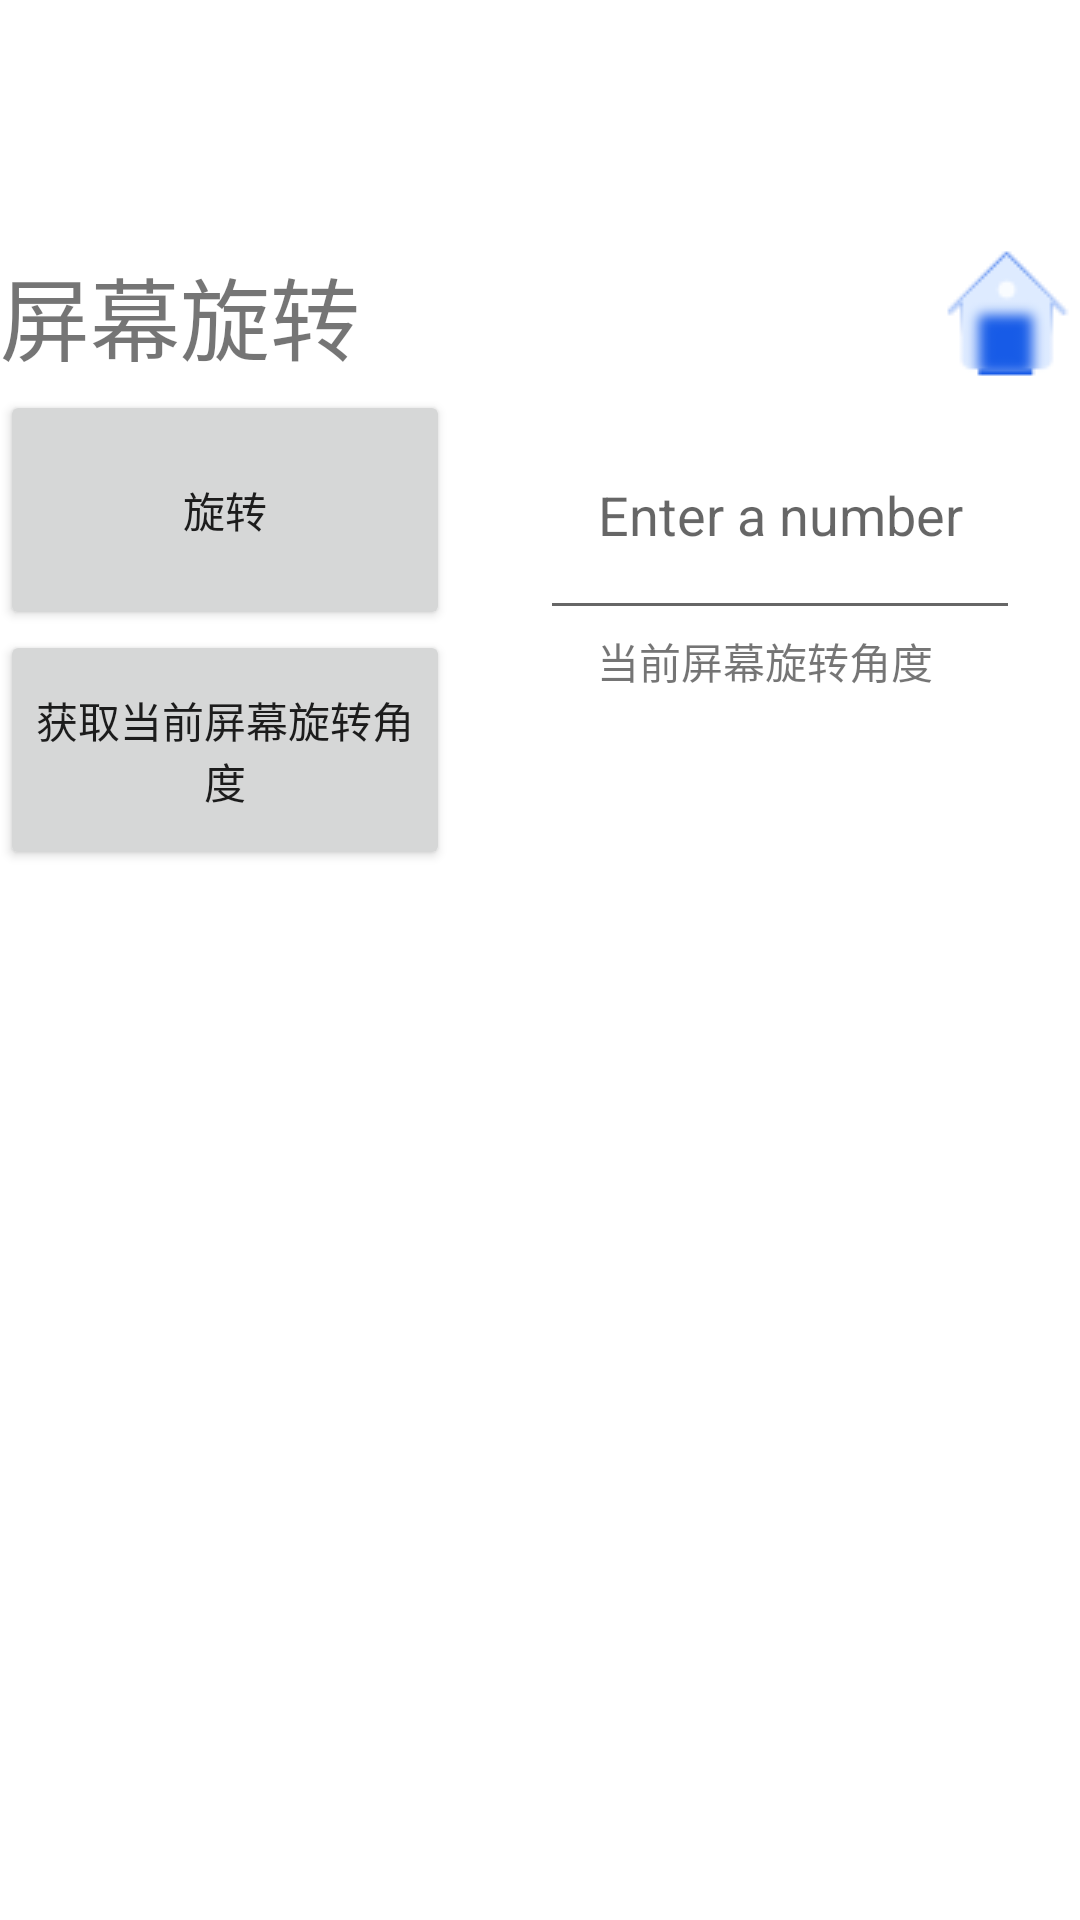

Icons on this 1080 × 1920 Android screen, each with the point to tap as point (x, y):
主界面: point (1007, 313)
